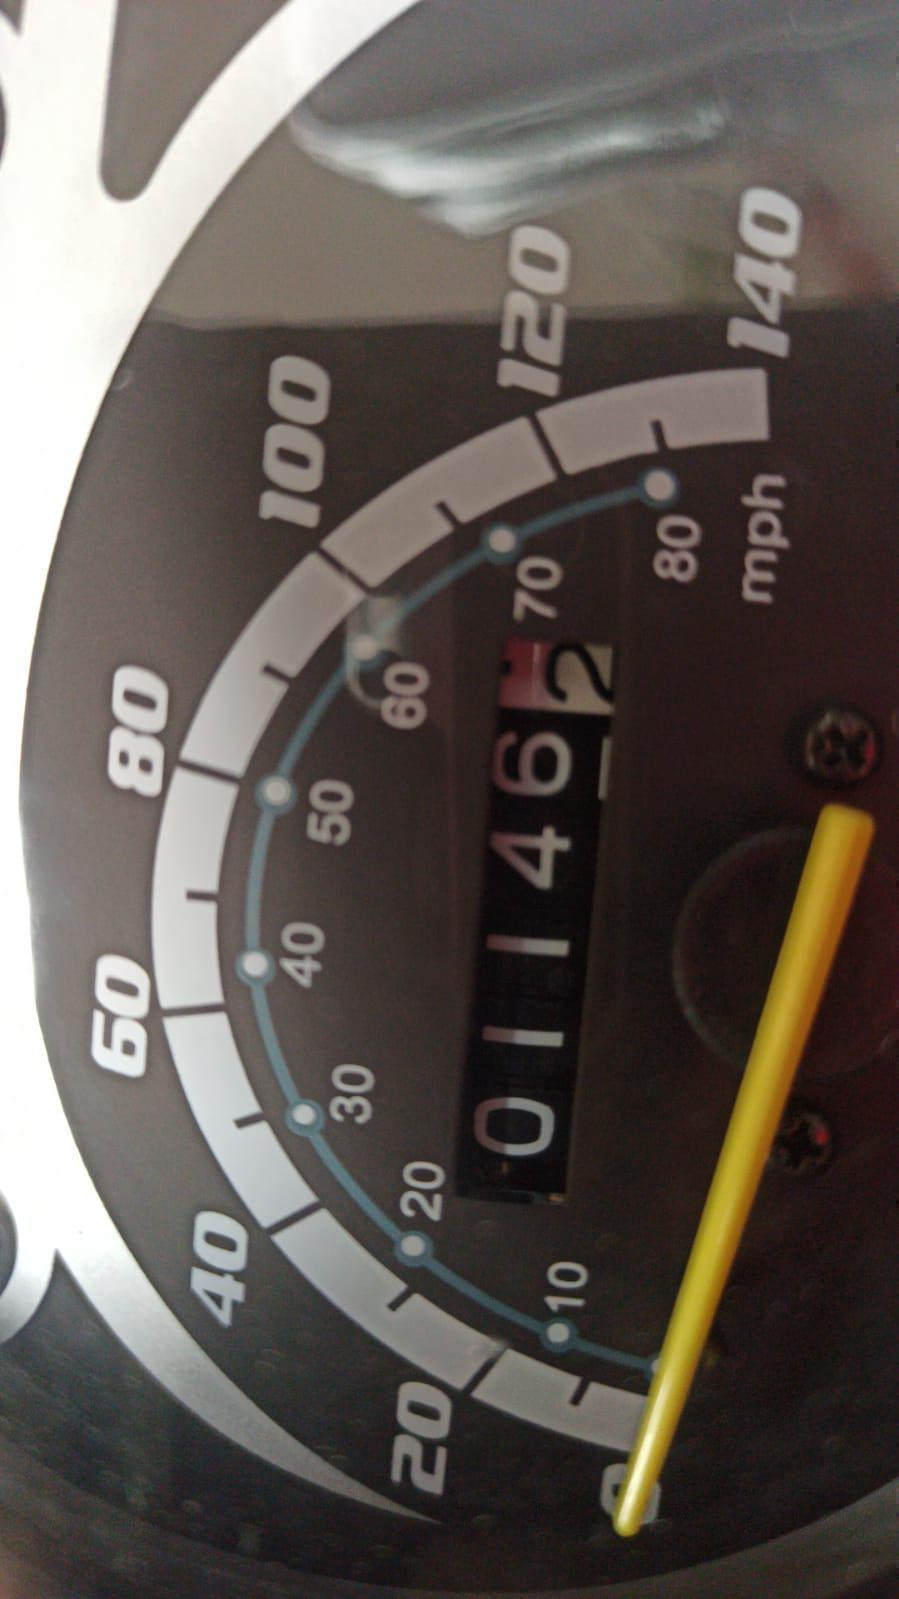0: (462, 1092, 572, 1160)
1: (462, 918, 591, 963), (467, 1010, 586, 1056)
2: (527, 634, 623, 704)
4: (474, 813, 589, 887)
6: (479, 722, 578, 804)
odometer: (443, 617, 630, 1203)
